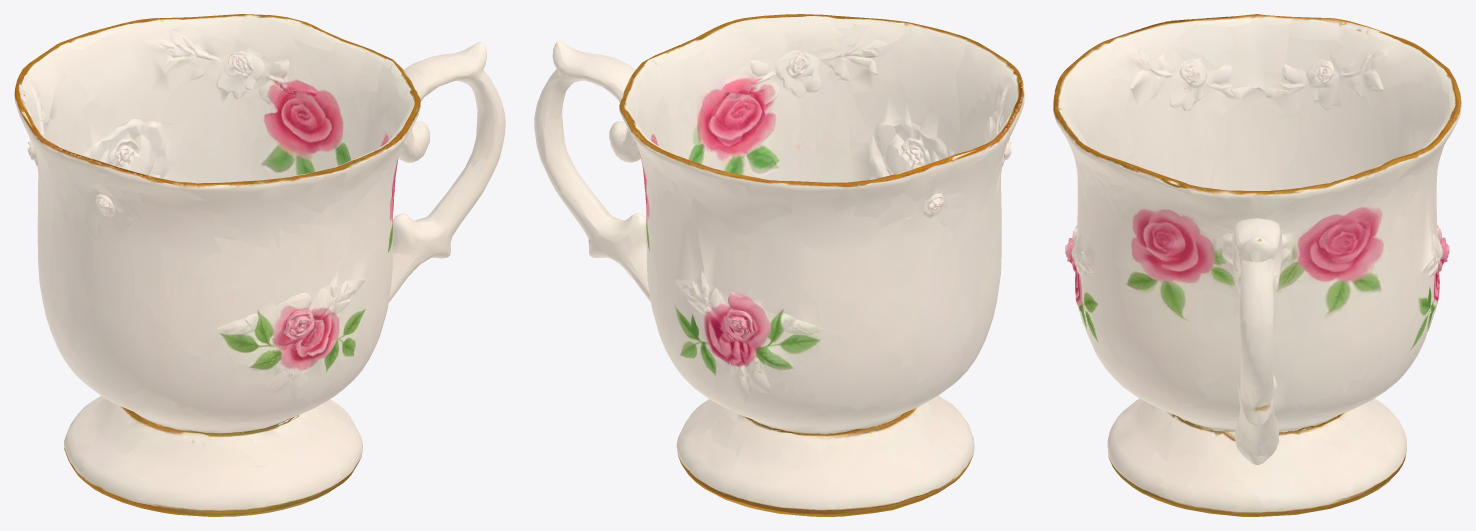
Rendered from kitchen-teacup-05.glb.
3 views of the same model, side by side, from view 1: azimuth 30°, elevation 25°; view 2: azimuth 150°, elevation 25°; view 3: azimuth 270°, elevation 25° (orthographic).
Size of the model in its own units: 1.9 by 1.43 by 1.45.
1 material, 1 textured.
